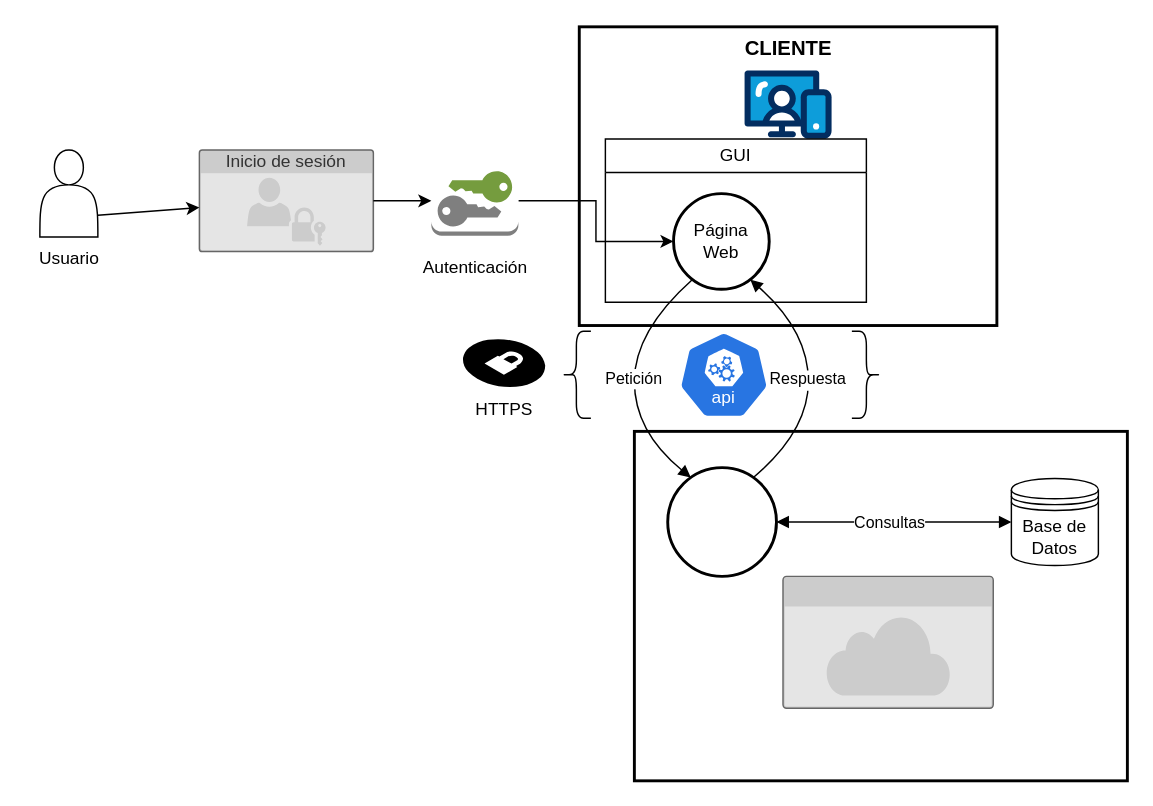
Some shapes in this 1153 by 806 pixel diagram are drawn without their labels. The centre of each missing label's shape, as x and y in pixels:
"Aplicación" goes at point 721,521.
"SERVIDOR EN LA NUBE" goes at point 887,641.
